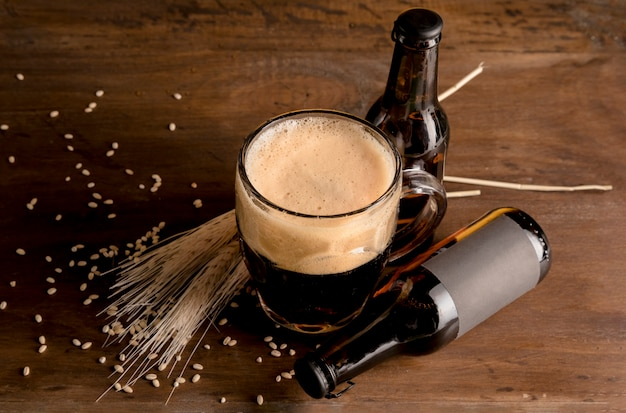alcohol: (292, 205, 554, 399), (234, 109, 403, 341), (365, 7, 451, 262)
